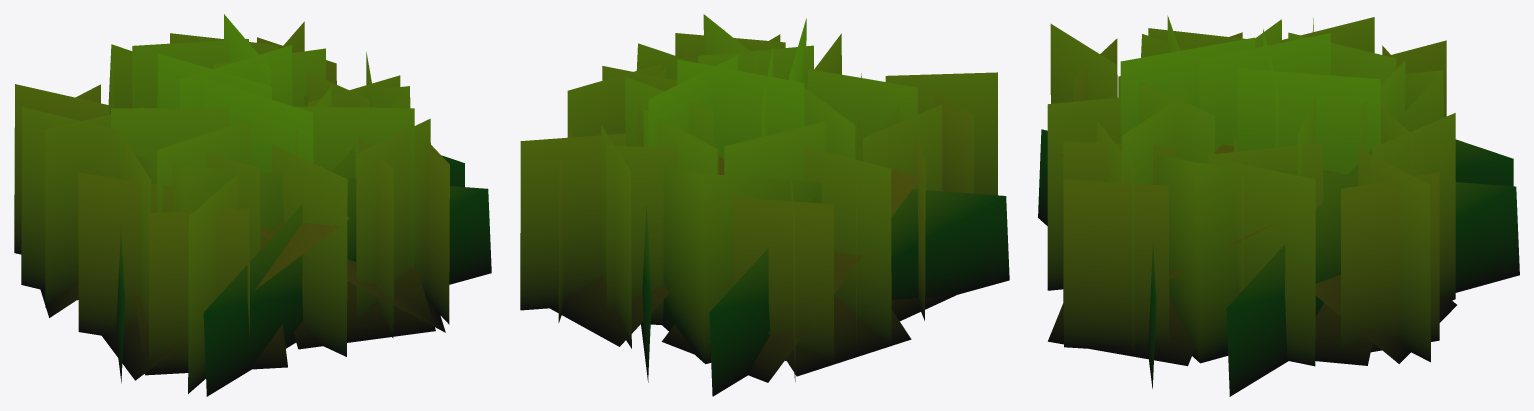
Rendered from TSI_Wheat_Patch_01A.fbx.
3 views of the same model, side by side, from view 1: azimuth 30°, elevation 25°; view 2: azimuth 150°, elevation 25°; view 3: azimuth 270°, elevation 25° (orthographic). The views are drawn at different scales.
Parts seen in each view (by area): view 1: TSI_Wheat_Patch_01A_LOD0; view 2: TSI_Wheat_Patch_01A_LOD0; view 3: TSI_Wheat_Patch_01A_LOD0.
Part boxes in pixels (box(x1,y1,x2,y2)): TSI_Wheat_Patch_01A_LOD0: box(14, 14, 491, 396); TSI_Wheat_Patch_01A_LOD0: box(520, 14, 1009, 396); TSI_Wheat_Patch_01A_LOD0: box(1038, 15, 1519, 396).
Size of the model in its own units: 273 by 143 by 270.
